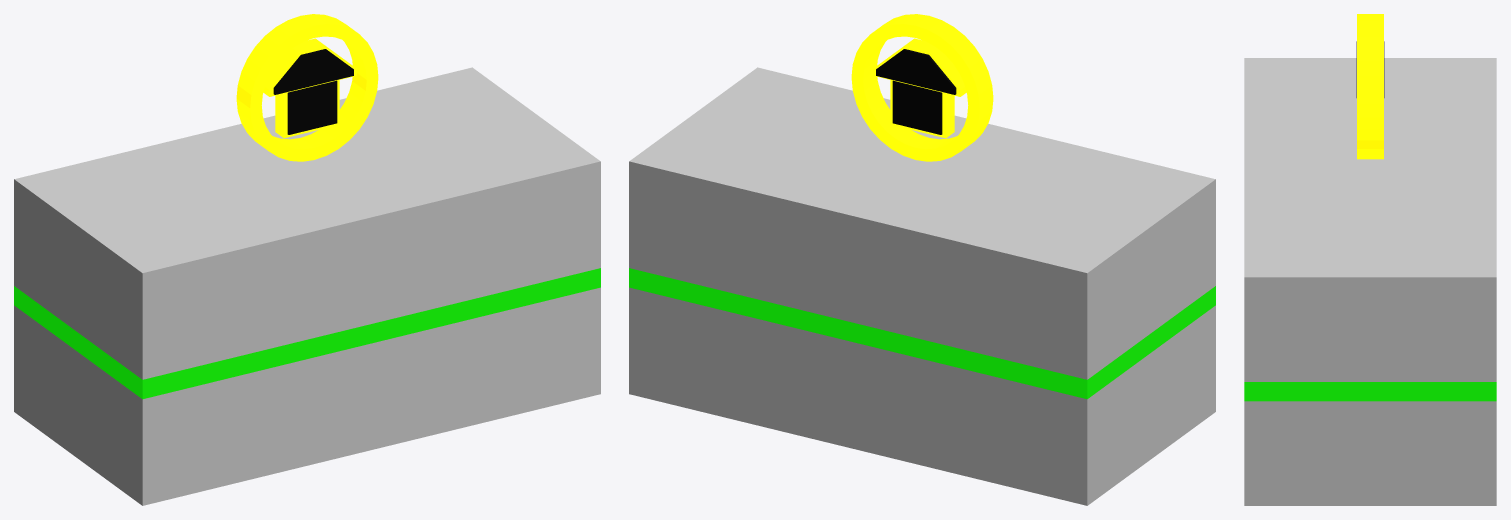
File: StorageV2.fbx
3 views of the same model, side by side, from view 1: azimuth 30°, elevation 25°; view 2: azimuth 150°, elevation 25°; view 3: azimuth 270°, elevation 25° (orthographic).
Visible parts, largest first — view 1: F Storage, Cylinder.001; view 2: F Storage, Cylinder.001; view 3: F Storage, Cylinder.001.
Part boxes in pixels (left/top/right/bottom): F Storage: left=14, top=67, right=600, bottom=505; Cylinder.001: left=236, top=14, right=378, bottom=161; F Storage: left=629, top=67, right=1215, bottom=505; Cylinder.001: left=851, top=14, right=993, bottom=161; F Storage: left=1244, top=58, right=1496, bottom=505; Cylinder.001: left=1356, top=14, right=1384, bottom=159.
Bounding box in the file's own units: 328 × 262 × 159.
